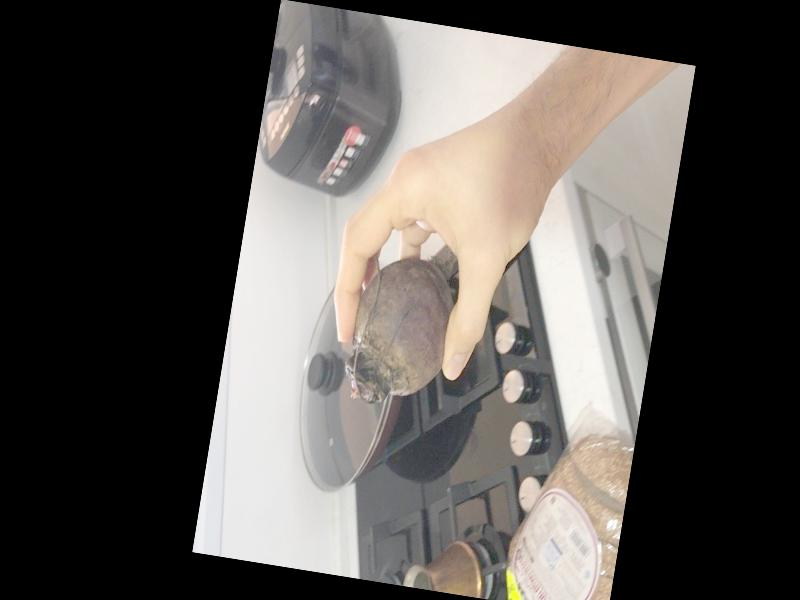Beet: (342, 241, 460, 414)
